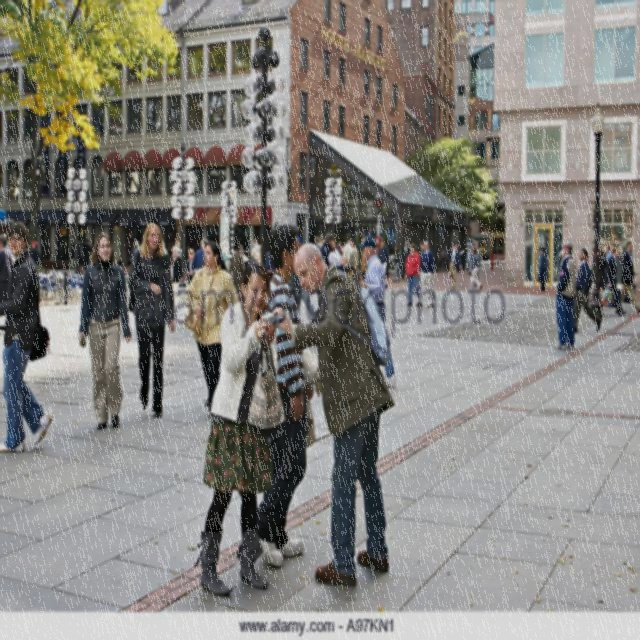pessoa: (271, 241, 397, 592), (192, 262, 283, 598), (253, 220, 311, 570), (0, 215, 57, 458), (76, 224, 133, 434), (181, 236, 242, 414), (126, 218, 178, 418), (359, 236, 398, 386), (283, 226, 323, 341), (569, 245, 603, 335), (553, 240, 579, 352), (604, 246, 628, 318), (620, 240, 639, 318), (415, 238, 436, 308), (334, 234, 367, 272), (403, 241, 421, 308), (340, 243, 363, 288), (0, 232, 14, 302), (318, 231, 343, 269), (229, 241, 246, 295), (594, 246, 608, 304), (376, 236, 391, 290), (469, 246, 483, 294), (447, 240, 461, 288), (470, 240, 482, 288), (191, 237, 209, 269), (184, 248, 198, 287), (556, 242, 569, 282), (399, 236, 410, 282), (170, 244, 183, 282), (390, 242, 402, 282), (80, 236, 94, 268), (538, 245, 547, 292), (249, 237, 263, 266), (264, 245, 274, 281), (30, 237, 42, 266), (7, 244, 18, 268), (313, 230, 325, 248), (464, 246, 471, 272), (604, 244, 613, 262), (375, 236, 381, 250), (412, 287, 419, 298), (132, 240, 139, 250), (418, 242, 424, 252)
